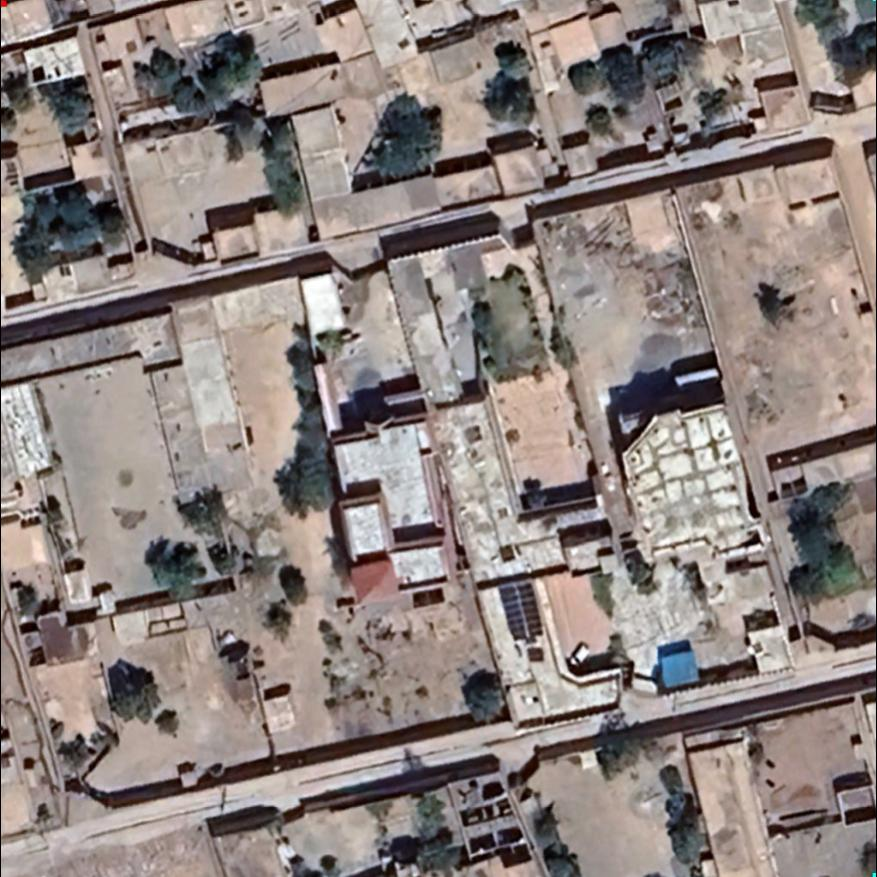Solarpanel: (489, 578, 548, 646)
